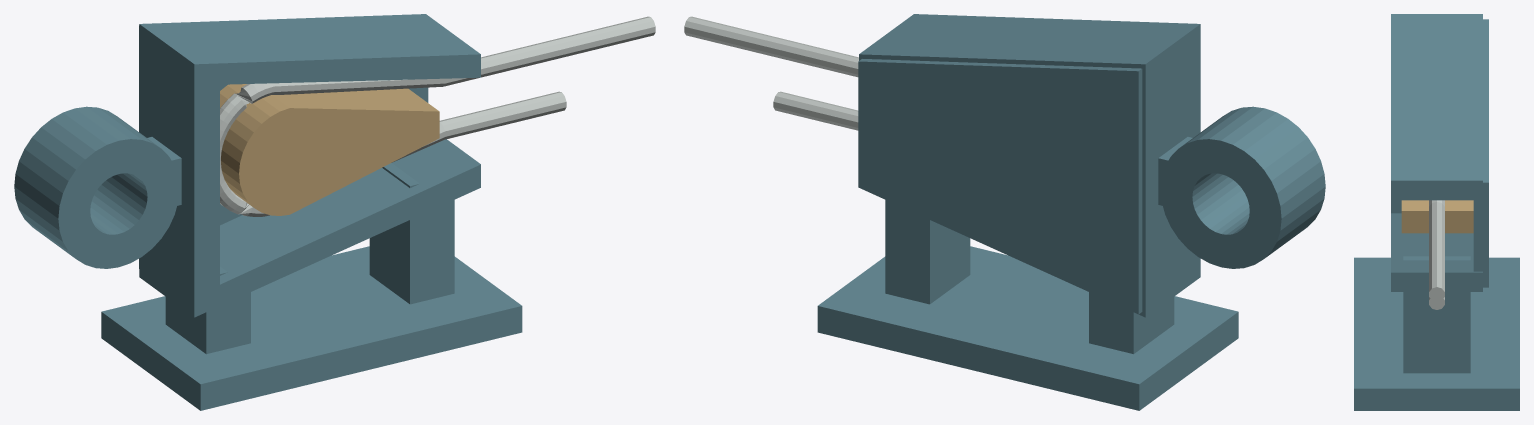
3 views of the same model, side by side, from view 1: azimuth 30°, elevation 25°; view 2: azimuth 150°, elevation 25°; view 3: azimuth 270°, elevation 25° (orthographic). The views are drawn at different scales.
Visible parts, largest first — view 1: WholeTaperedOpenSideAndEndMouthSocket, WholeLowDisplayBase, WholePiercedTerminalEye, WholeRoundedHeadAndTaperedInnerWedge, WholeContinuousCordLoopAndUnequalTails, WholeRightSocketDisplayFoot, WholeLeftSocketDisplayFoot; view 2: WholeRearSectionBacking, WholeLowDisplayBase, WholeTaperedOpenSideAndEndMouthSocket, WholePiercedTerminalEye, WholeRightSocketDisplayFoot, WholeContinuousCordLoopAndUnequalTails, WholeLeftSocketDisplayFoot; view 3: WholeTaperedOpenSideAndEndMouthSocket, WholeLowDisplayBase, WholeRightSocketDisplayFoot, WholeRearSectionBacking, WholeRoundedHeadAndTaperedInnerWedge, WholeContinuousCordLoopAndUnequalTails.
Boxes of the visible parts, x1=… form: WholeTaperedOpenSideAndEndMouthSocket: x1=139, y1=14, x2=480, y2=317; WholeLowDisplayBase: x1=101, y1=246, x2=522, y2=410; WholePiercedTerminalEye: x1=14, y1=106, x2=179, y2=268; WholeRoundedHeadAndTaperedInnerWedge: x1=220, y1=84, x2=439, y2=215; WholeContinuousCordLoopAndUnequalTails: x1=220, y1=16, x2=655, y2=216; WholeRightSocketDisplayFoot: x1=369, y1=163, x2=454, y2=304; WholeLeftSocketDisplayFoot: x1=165, y1=266, x2=250, y2=354; WholeRearSectionBacking: x1=858, y1=59, x2=1142, y2=314; WholeLowDisplayBase: x1=817, y1=246, x2=1238, y2=410; WholeTaperedOpenSideAndEndMouthSocket: x1=859, y1=14, x2=1200, y2=317; WholePiercedTerminalEye: x1=1160, y1=106, x2=1325, y2=268; WholeRightSocketDisplayFoot: x1=885, y1=200, x2=970, y2=304; WholeContinuousCordLoopAndUnequalTails: x1=684, y1=16, x2=858, y2=130; WholeLeftSocketDisplayFoot: x1=1089, y1=292, x2=1174, y2=354; WholeTaperedOpenSideAndEndMouthSocket: x1=1391, y1=14, x2=1482, y2=291; WholeLowDisplayBase: x1=1354, y1=257, x2=1519, y2=410; WholeRightSocketDisplayFoot: x1=1403, y1=256, x2=1470, y2=373; WholeRearSectionBacking: x1=1473, y1=19, x2=1488, y2=287; WholeRoundedHeadAndTaperedInnerWedge: x1=1401, y1=200, x2=1473, y2=233; WholeContinuousCordLoopAndUnequalTails: x1=1429, y1=200, x2=1444, y2=309.
Bounding box in the file's own units: 1.93 × 0.98 × 0.54.
